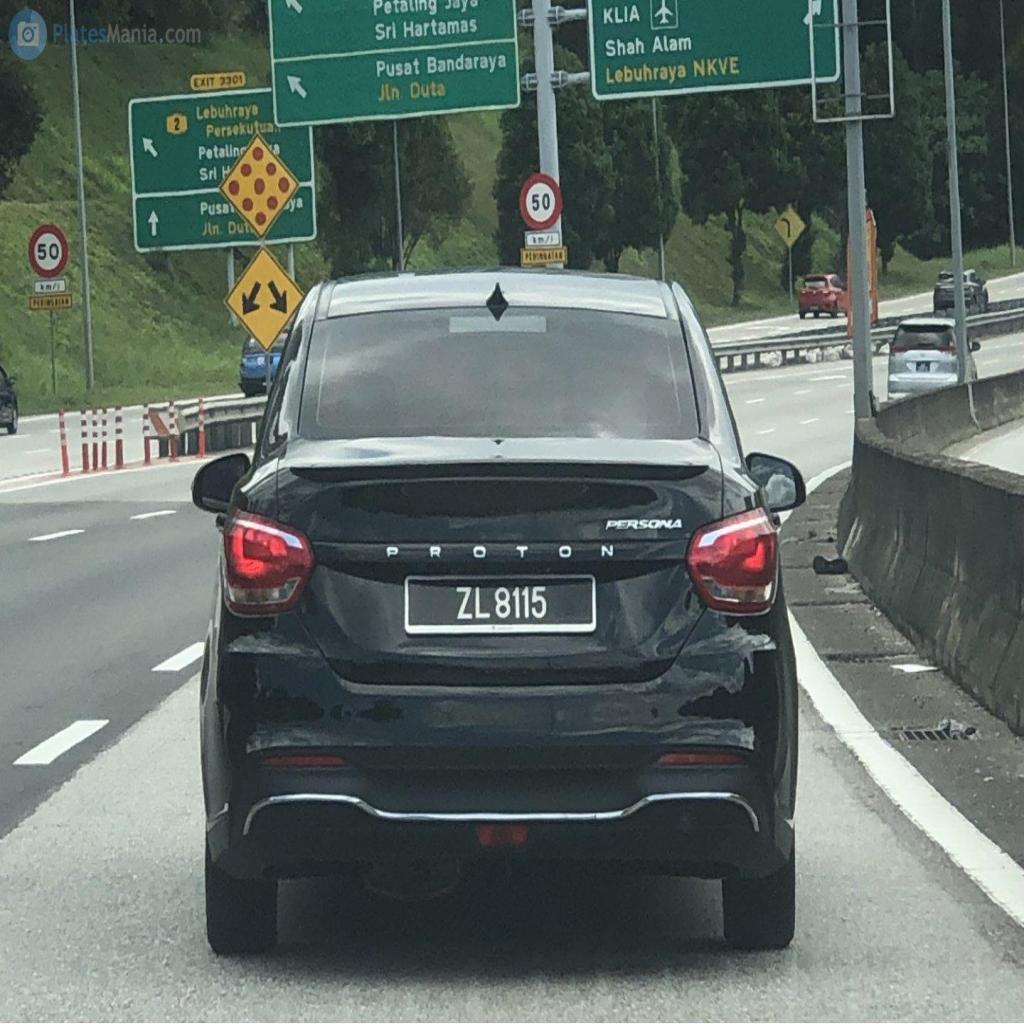car: (192, 268, 803, 952)
car plate: (405, 576, 595, 633)
